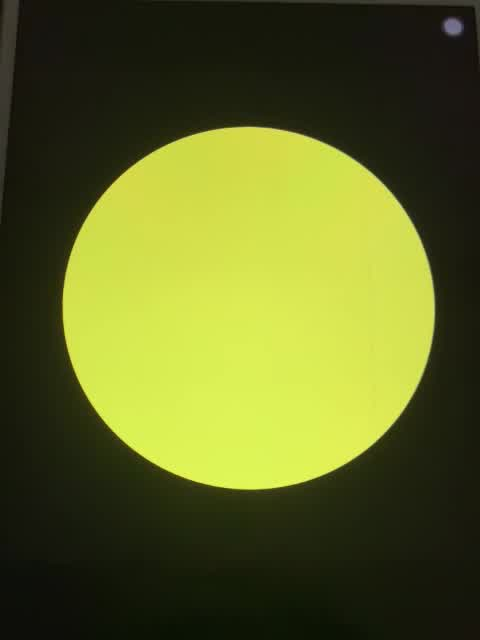left: (55, 117, 442, 497)
